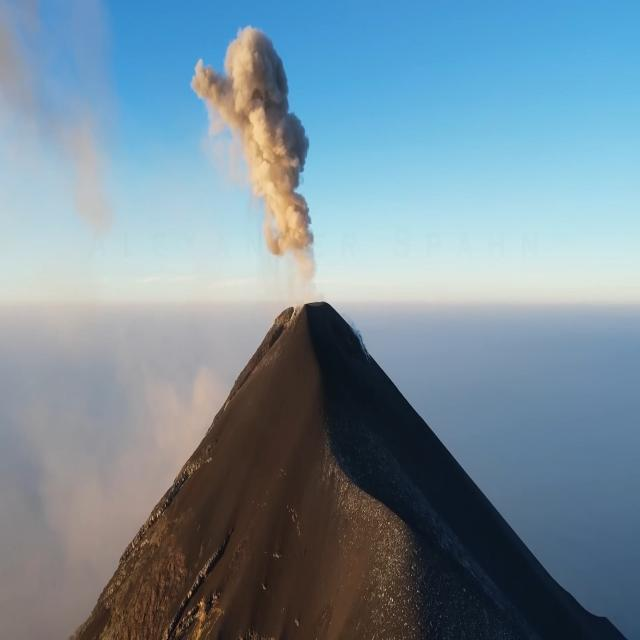Plume: (171, 20, 361, 302)
Summit: (69, 291, 640, 640)
